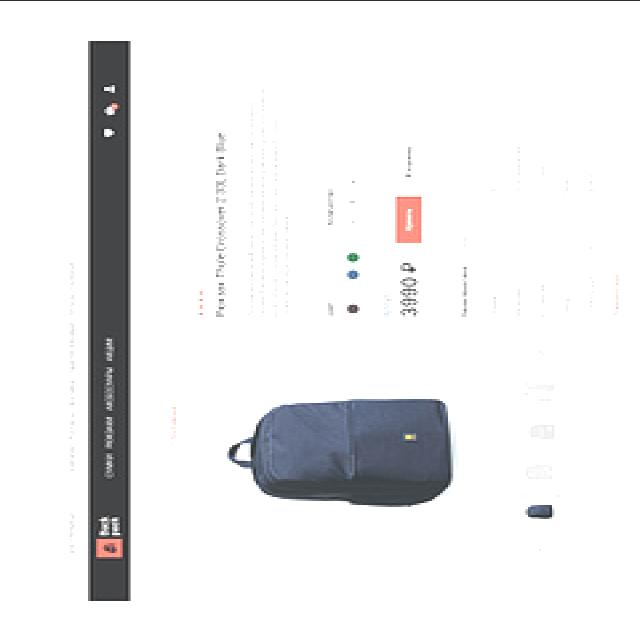backpack: (226, 399, 452, 509)
